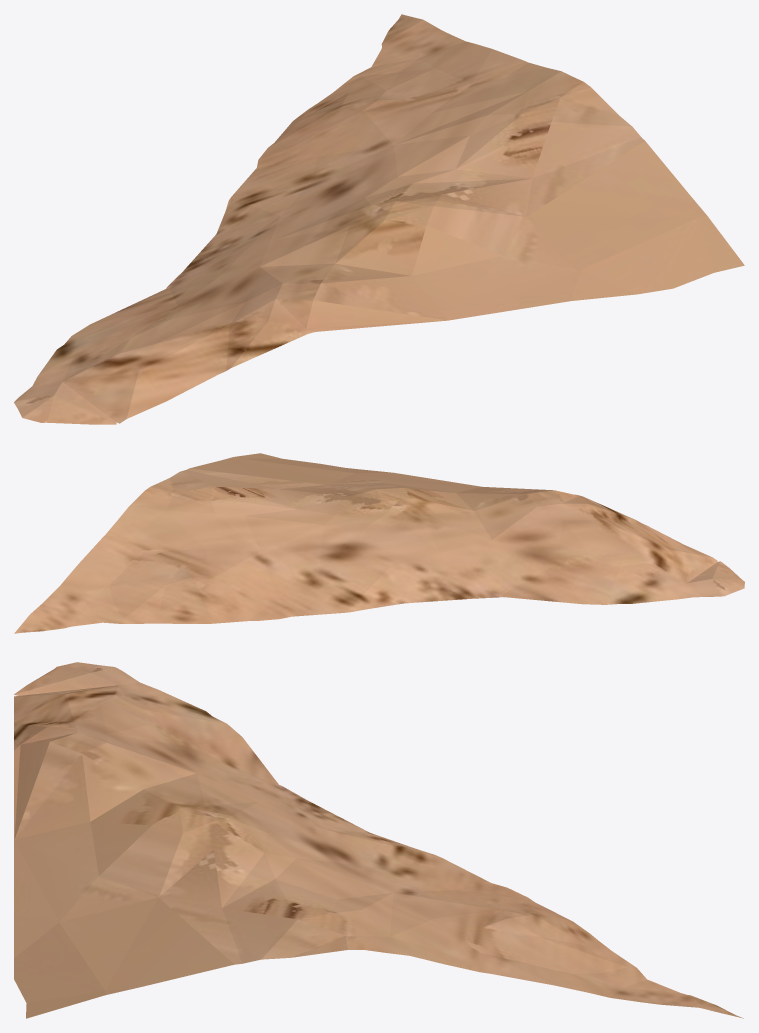
3 views of the same model, one above another, from view 1: azimuth 30°, elevation 25°; view 2: azimuth 150°, elevation 25°; view 3: azimuth 270°, elevation 25° (orthographic). The views are drawn at different scales.
Size of the model in its own units: 0.5841 by 0.0526 by 0.5058.
1 material, 1 textured.
